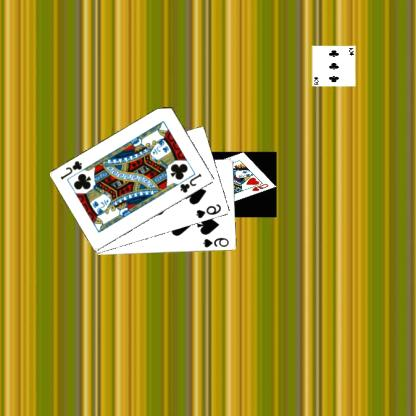6S: (195, 201, 224, 220)
9S: (203, 235, 232, 249)
JC: (179, 171, 205, 194), (60, 158, 85, 181)
